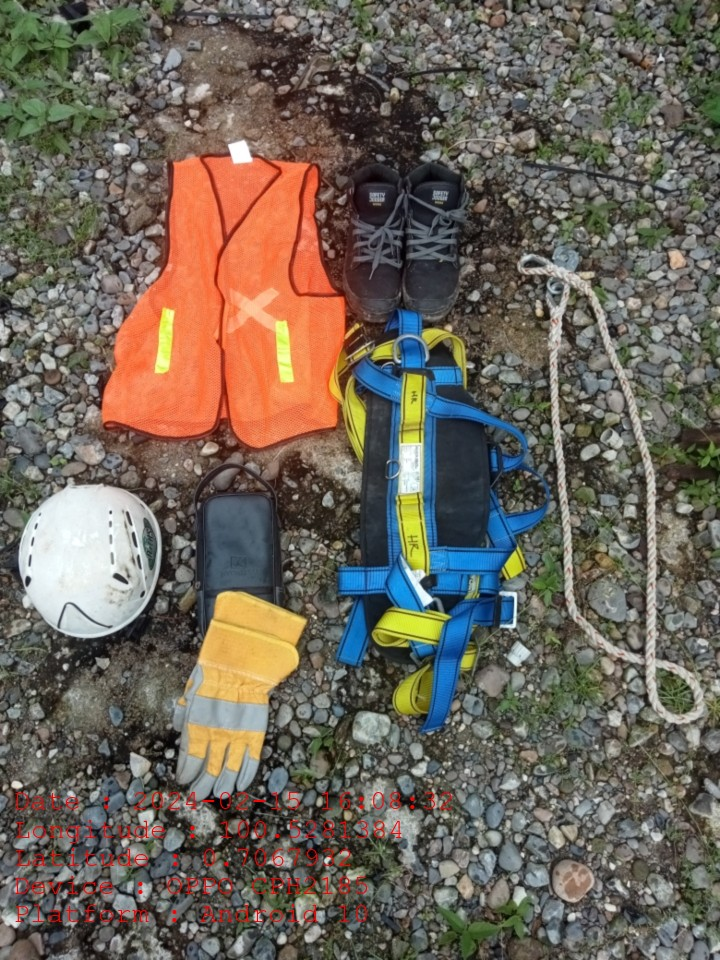HELM: (16, 484, 164, 640)
ROMPI: (112, 156, 337, 436)
SARUNG_TANGAN: (177, 590, 304, 793)
SEPATU: (342, 163, 463, 323)
TAMBANG_SLING: (512, 240, 703, 726)
